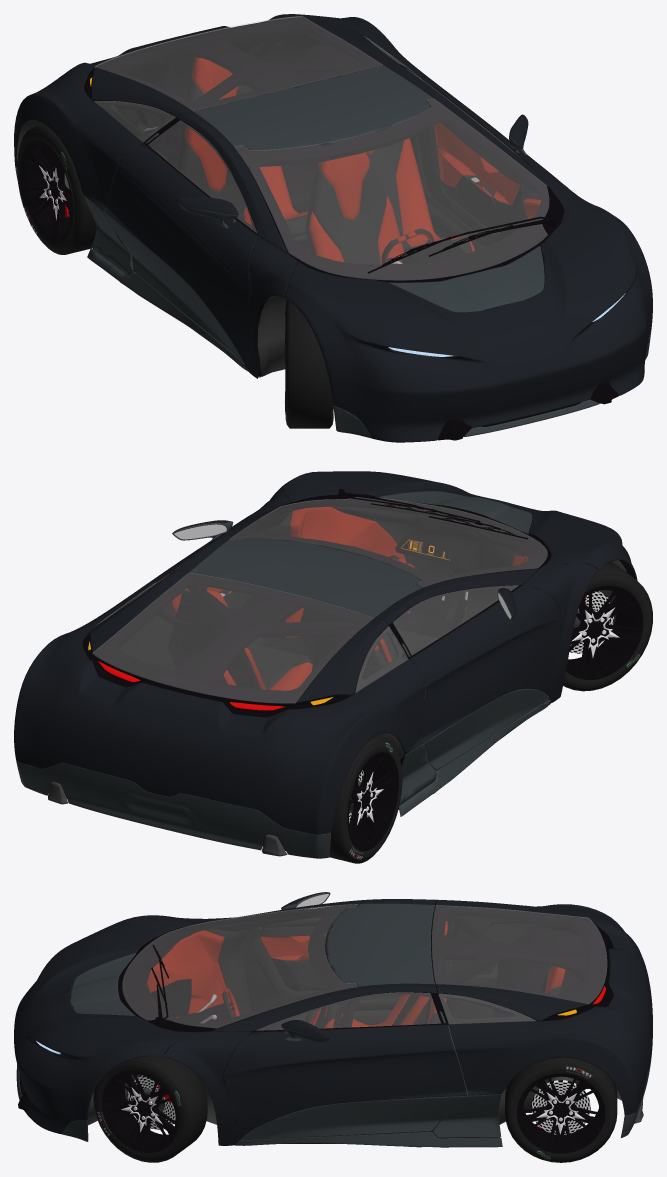
File: hero-coupe.glb
3 views of the same model, one above another, from view 1: azimuth 30°, elevation 25°; view 2: azimuth 150°, elevation 25°; view 3: azimuth 270°, elevation 25° (orthographic). The views are drawn at different scales.
Visible parts, largest first — view 1: BodyHood, BodyWindshield, BodyRearwindow, BodyDoorRColor1, BodyRearPanelsColor1, BodyRoofPanel, BodyWindshieldGasket, InteriorSeatsColor1, InteriorSeatsColor2, BodyPillars, InteriorPillar, InteriorRearHatch (+21 smaller); view 2: BodyRearPanelsColor1, BodyRearwindow, BodyWindshield, BodyPanelsColor2, BodyDoorRColor1, BodyRoofPanel, BodyHood, InteriorRearHatch, BodyPillars, InteriorPillar, BodyWindshieldGasket, InteriorDashMid (+21 smaller); view 3: BodyRearPanelsColor1, BodyWindshield, BodyDoorLColor1, BodyHood, BodyRearwindow, BodyRoofPanel, BodyPillars, BodyWindshieldGasket, BodyDoorLColor2, BodyPanelsColor2, WheelFrontL, InteriorRearHatch (+25 smaller).
Part boxes in pixels (x1,y1,x2,y2): BodyHood: [283, 198, 652, 442]; BodyWindshield: [234, 98, 549, 280]; BodyRearwindow: [95, 16, 382, 110]; BodyDoorRColor1: [104, 143, 257, 362]; BodyRearPanelsColor1: [14, 14, 428, 210]; BodyRoofPanel: [193, 65, 432, 150]; BodyWindshieldGasket: [234, 99, 563, 282]; InteriorSeatsColor1: [185, 57, 475, 264]; InteriorSeatsColor2: [180, 78, 472, 264]; BodyPillars: [176, 61, 598, 378]; InteriorPillar: [158, 37, 434, 168]; InteriorRearHatch: [93, 17, 383, 117]; BodyRearPanelsColor1: [14, 569, 425, 834]; BodyRearwindow: [92, 573, 373, 703]; BodyWindshield: [229, 497, 547, 587]; BodyPanelsColor2: [16, 700, 550, 858]; BodyDoorRColor1: [409, 585, 562, 742]; BodyRoofPanel: [189, 537, 422, 617]; BodyHood: [279, 471, 637, 580]; InteriorRearHatch: [93, 573, 386, 707]; BodyPillars: [175, 489, 599, 702]; InteriorPillar: [174, 574, 417, 682]; BodyWindshieldGasket: [230, 497, 550, 587]; InteriorDashMid: [331, 503, 528, 622]; BodyRearPanelsColor1: [436, 899, 652, 1115]; BodyWindshield: [122, 904, 357, 1028]; BodyDoorLColor1: [222, 1024, 467, 1139]; BodyHood: [14, 915, 196, 1133]; BodyRearwindow: [432, 905, 606, 1003]; BodyRoofPanel: [326, 903, 434, 986]; BodyPillars: [163, 899, 437, 1145]; BodyWindshieldGasket: [118, 905, 357, 1032]; BodyDoorLColor2: [240, 1096, 467, 1140]; BodyPanelsColor2: [16, 1050, 652, 1147]; WheelFrontL: [93, 1054, 207, 1162]; InteriorRearHatch: [431, 905, 606, 1020].
Bounding box in the file's own units: 2.54 × 1.15 × 4.36.
Materials: 22 (5 with a texture image).
